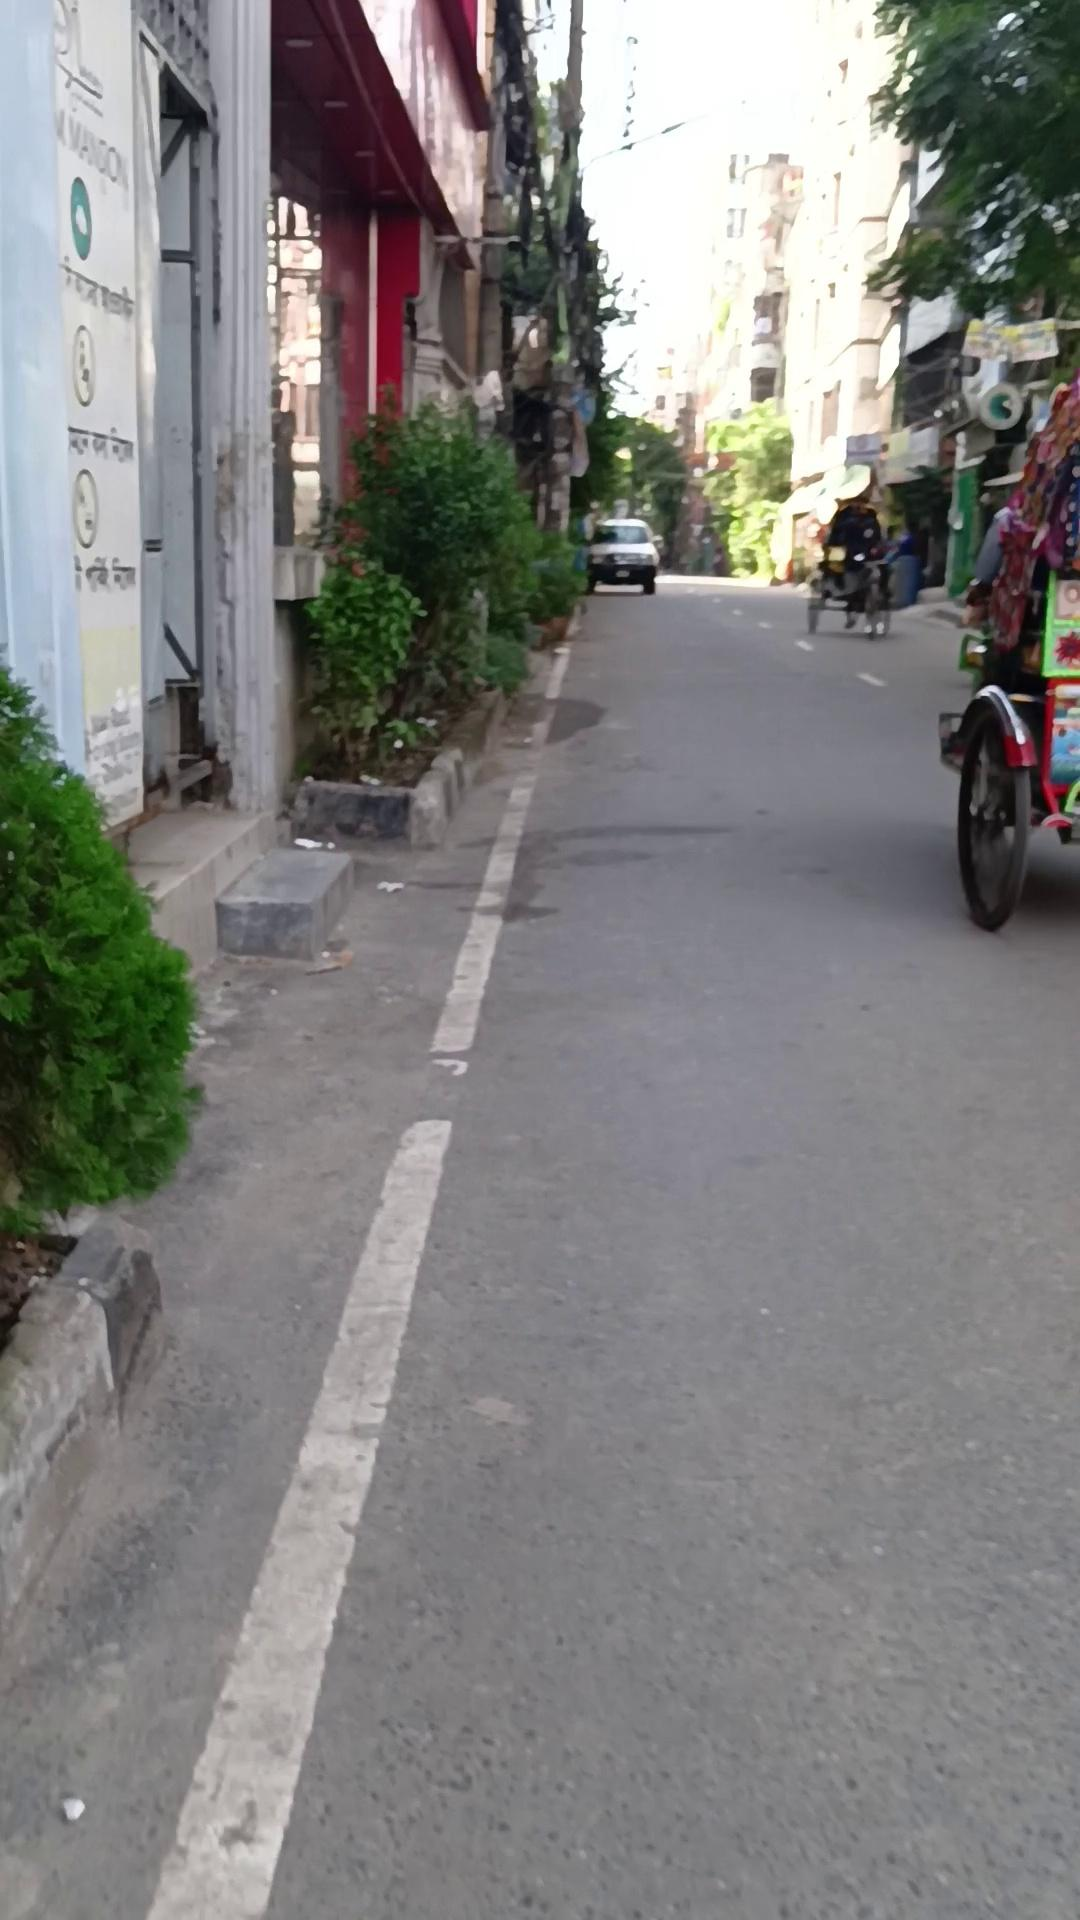Bollard: (584, 517, 659, 595)
Broken-road: (0, 1102, 165, 1646), (297, 669, 516, 840)
Cat: (887, 553, 920, 608)
Dog: (202, 1, 277, 822)
Fallen-tree: (524, 527, 588, 649)
Fence: (804, 502, 891, 640)
Light-pole: (0, 662, 206, 1245), (291, 382, 584, 782), (862, 0, 1077, 334)
Motorcycle: (121, 803, 373, 988)
Obstacle: (3, 1, 282, 973), (1, 1, 153, 845)
